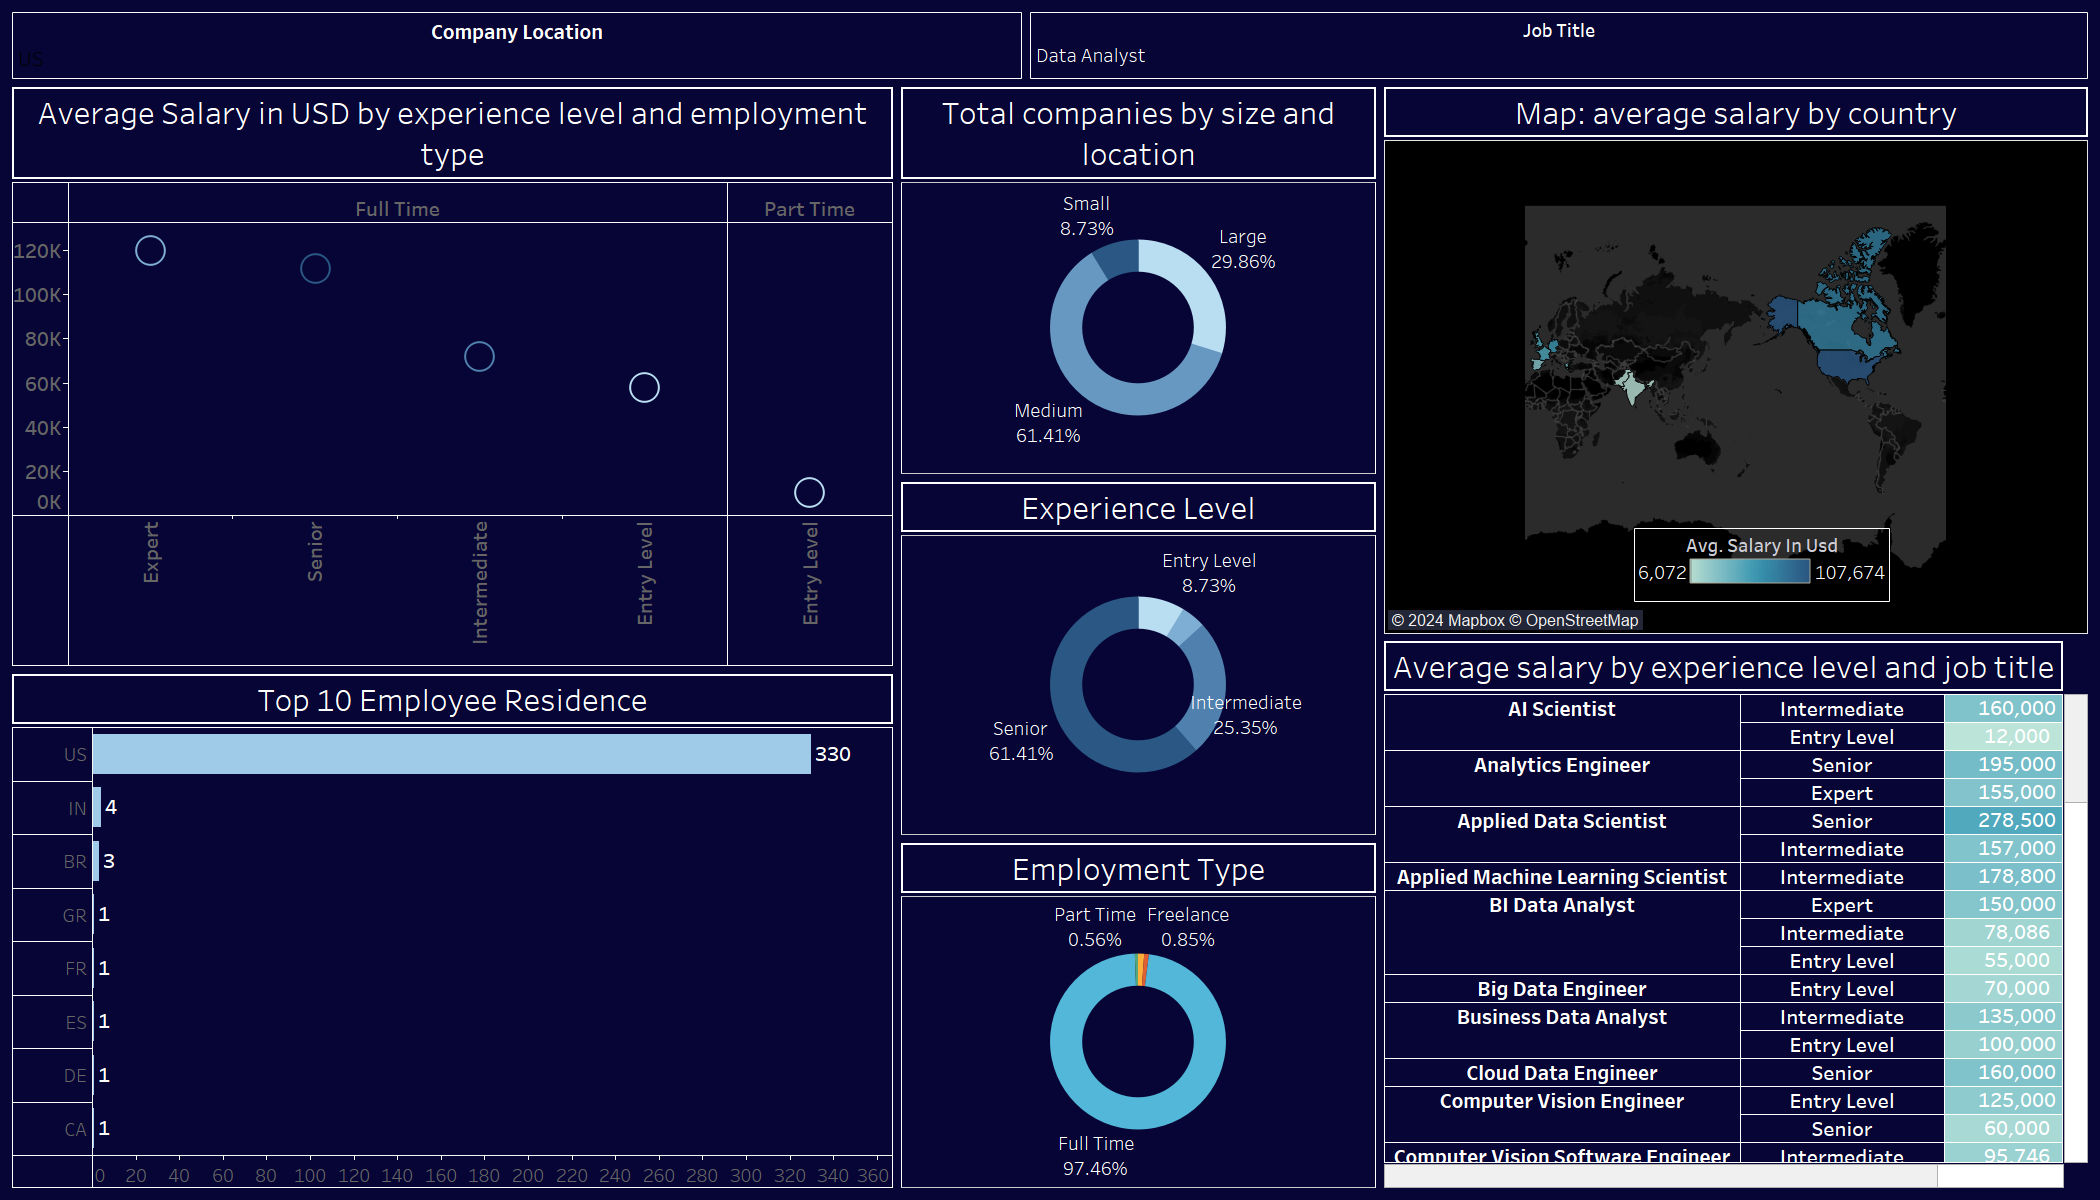

This screenshot's page, from the dashboard's own definition file:
{"tool":"tableau","page":{"name":"Dashboard 1","canvas":[2100,1200],"ordinal":0},"visuals":[{"type":"filter","title":"Average salary by experience level and job title","param":"[federated.0sdadzh042g4tz1ds42v406rz5k6].[none:company_location:nk]","box":[8,8,1018,75]},{"type":"filter","title":"Map: average salary by country ","param":"[federated.0sdadzh042g4tz1ds42v406rz5k6].[none:job_title:nk]","box":[1026,8,1066,75]},{"type":"worksheet","title":"Average Salary in USD by experience level and employment type","mark":"Shape","rows":["salary_in_usd"],"cols":["employment_type","experience_level"],"box":[8,83,889.3,587]},{"type":"worksheet","title":"Total companies by size and location","mark":"Pie","rows":["Calculation_226024469874155525","Calculation_226024469874155525"],"box":[897.3,83,483.1,395]},{"type":"worksheet","title":"Map: average salary by country ","mark":"Automatic","box":[1380.4,83,711.6,554.5]},{"type":"worksheet","title":"Experience Level","mark":"Pie","rows":["Calculation_226024469874155525","Calculation_226024469874155525"],"box":[897.3,478,483.1,361]},{"type":"legend","title":"Map: average salary by country ","param":"[federated.0sdadzh042g4tz1ds42v406rz5k6].[avg:salary_in_usd:qk]","box":[1634,528,256,100]},{"type":"worksheet","title":"Average salary by experience level and job title","mark":"Square","rows":["job_title","experience_level"],"box":[1380.4,637.5,711.6,554.5]},{"type":"worksheet","title":"Top 10 Employee Residence","mark":"Automatic","rows":["employee_residence"],"cols":["employee_residence"],"box":[8,670,889.3,522]},{"type":"worksheet","title":"Employment Type","mark":"Pie","rows":["Calculation_226024469874155525","Calculation_226024469874155525"],"box":[897.3,839,483.1,353]}]}

Visuals, with their boxes in screenshot pixels (x1, y1, x2, y2), scaled from the page's 2100x1200 canvas onto the 2100x1200 screenshot:
"Average salary by experience level and job title" filter: rect(8, 8, 1026, 83)
"Map: average salary by country " filter: rect(1026, 8, 2092, 83)
"Average Salary in USD by experience level and employment type" worksheet (Shape marks): rect(8, 83, 897, 670)
"Total companies by size and location" worksheet (Pie marks): rect(897, 83, 1380, 478)
"Map: average salary by country " worksheet: rect(1380, 83, 2092, 638)
"Experience Level" worksheet (Pie marks): rect(897, 478, 1380, 839)
"Map: average salary by country " legend: rect(1634, 528, 1890, 628)
"Average salary by experience level and job title" worksheet (Square marks): rect(1380, 638, 2092, 1192)
"Top 10 Employee Residence" worksheet: rect(8, 670, 897, 1192)
"Employment Type" worksheet (Pie marks): rect(897, 839, 1380, 1192)
